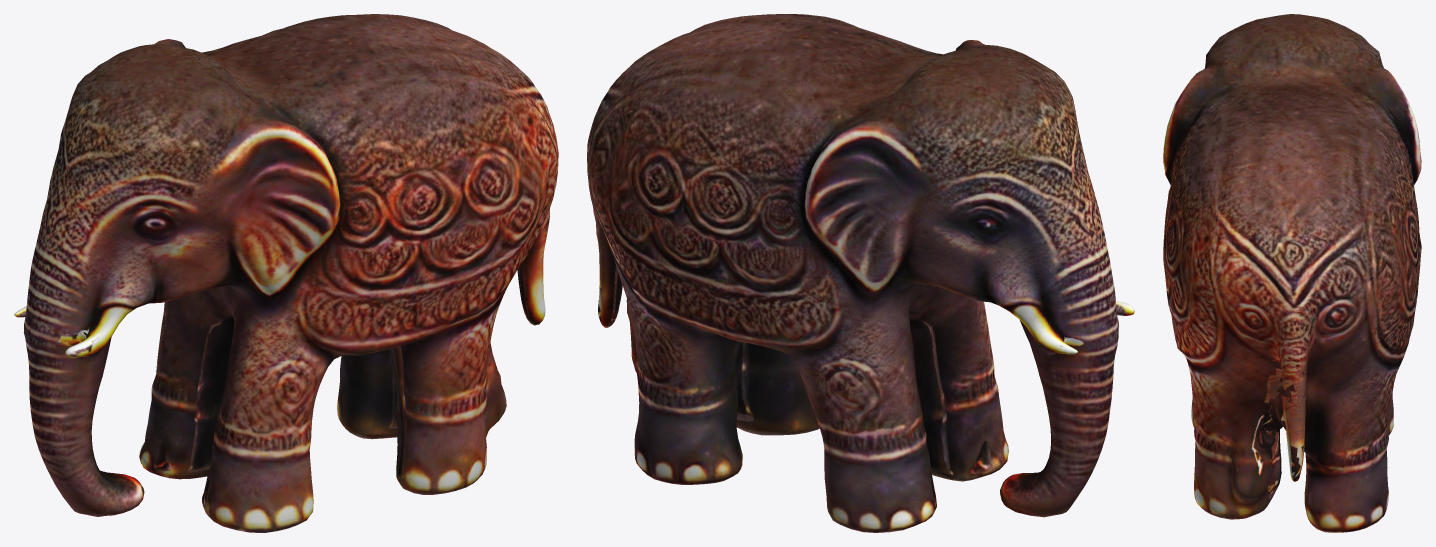
File: ele.glb
3 views of the same model, side by side, from view 1: azimuth 30°, elevation 25°; view 2: azimuth 150°, elevation 25°; view 3: azimuth 270°, elevation 25° (orthographic). The views are drawn at different scales.
Visible parts, largest first — view 1: mesh; view 2: mesh; view 3: mesh.
Part boxes in pixels (x1,y1,x2,y2): mesh: [14, 14, 558, 532]; mesh: [587, 14, 1134, 532]; mesh: [1163, 14, 1421, 532].
Size of the model in its own units: 0.9989 by 0.8165 by 0.5019.
Materials: 1 (1 with a texture image).
